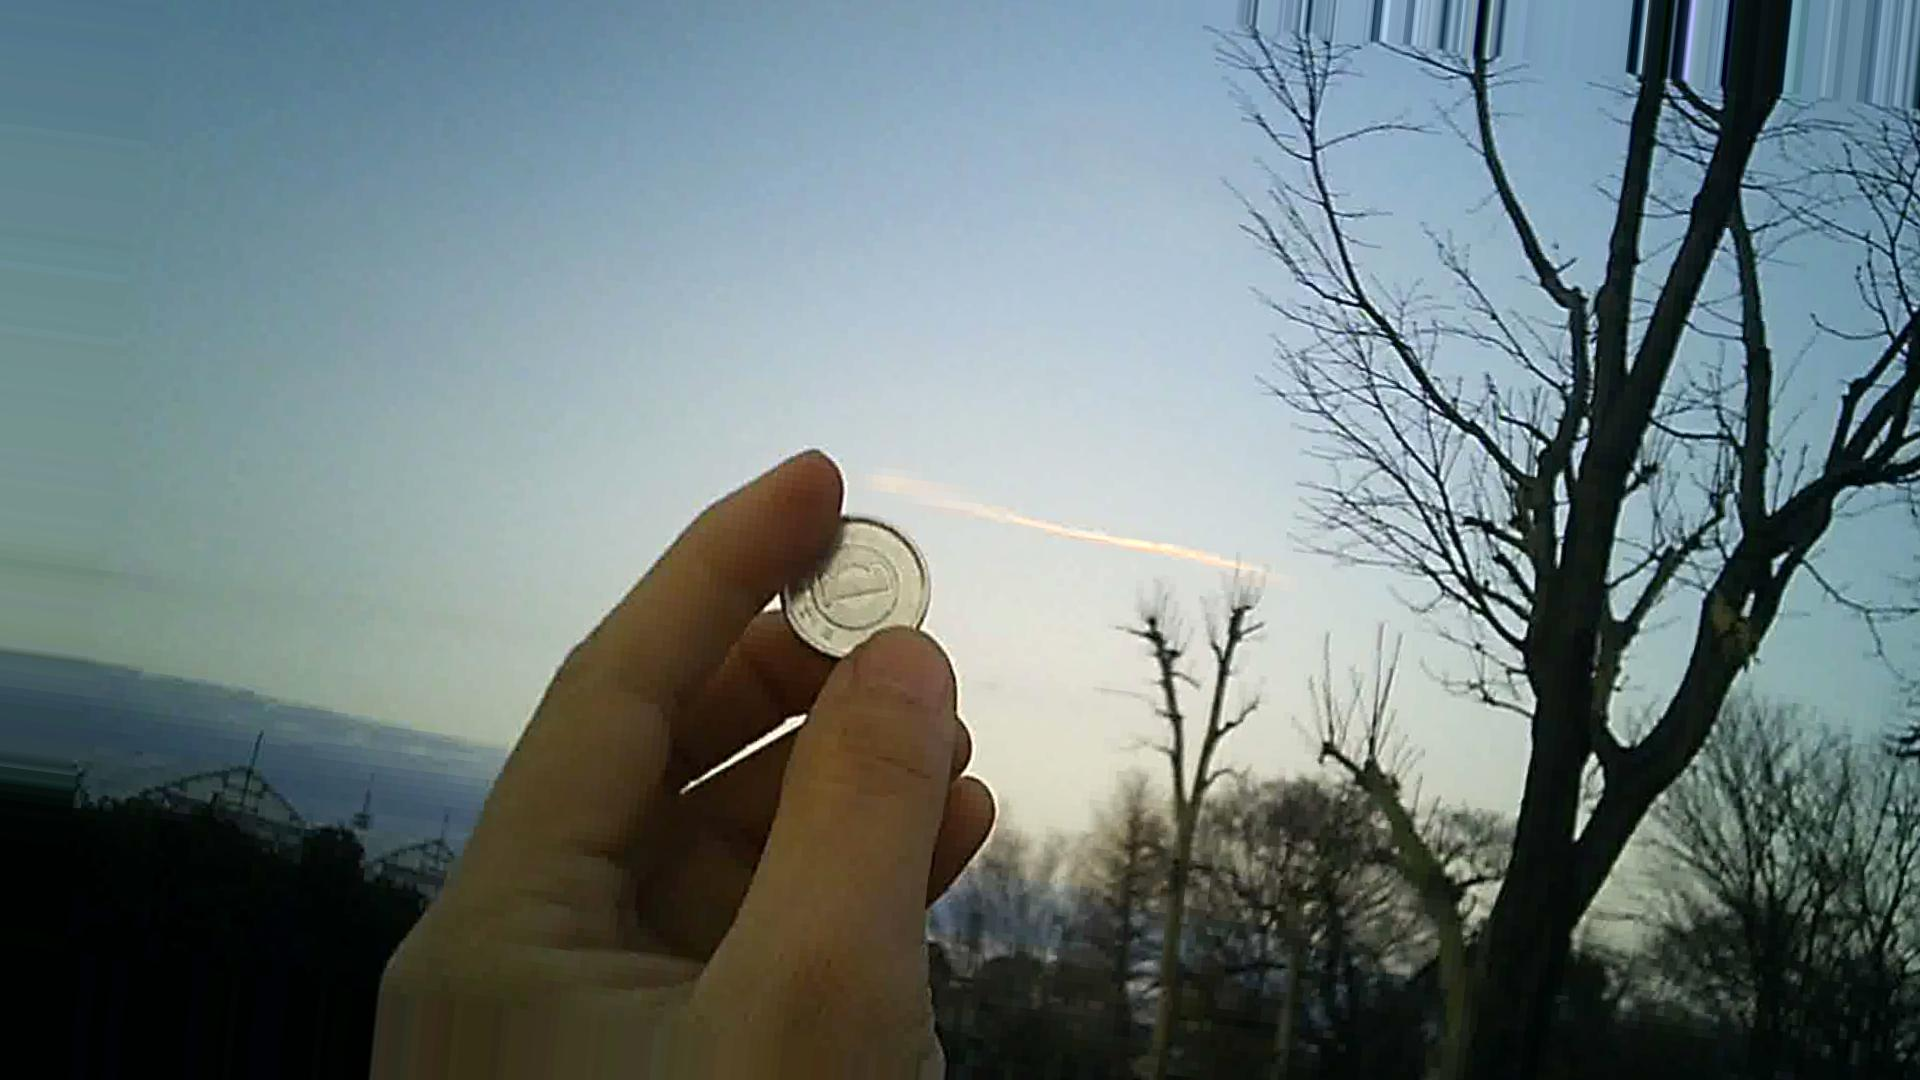1 Yen: (767, 505, 939, 673)
